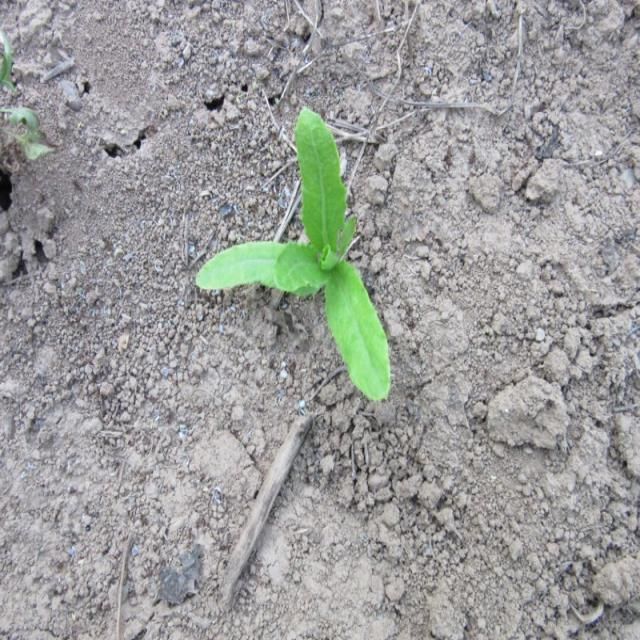cs: (194, 107, 393, 402)
